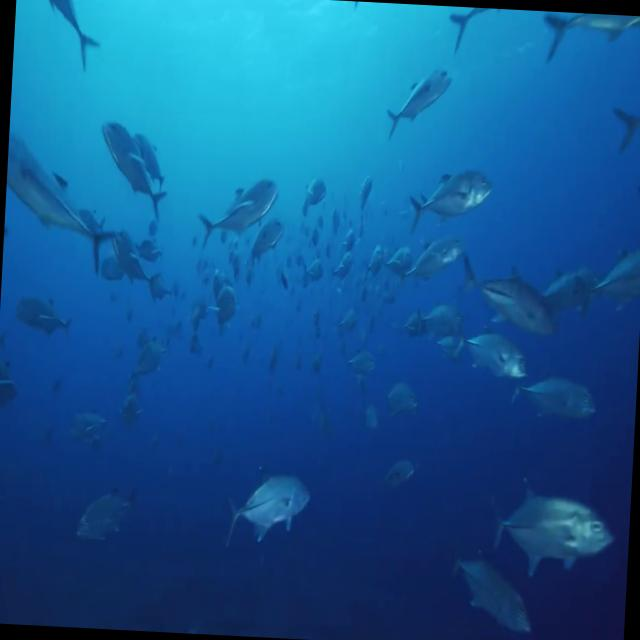fish: (2, 140, 116, 269), (489, 487, 619, 576), (458, 264, 562, 340), (197, 172, 282, 254), (224, 470, 310, 550), (410, 165, 498, 238), (98, 122, 166, 213), (383, 62, 454, 144)
